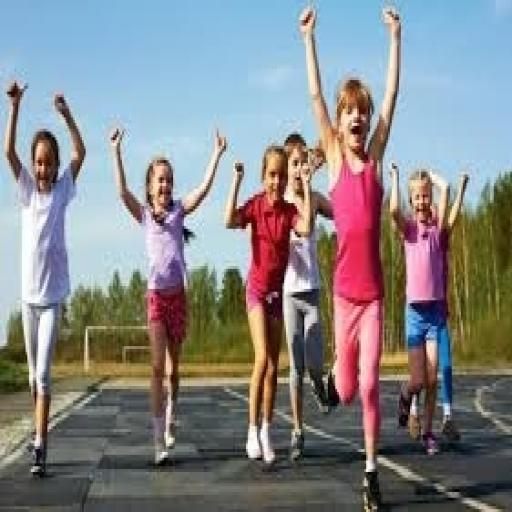running: (297, 3, 404, 509), (108, 120, 230, 469), (2, 74, 89, 480), (224, 143, 315, 469), (386, 158, 470, 460)
